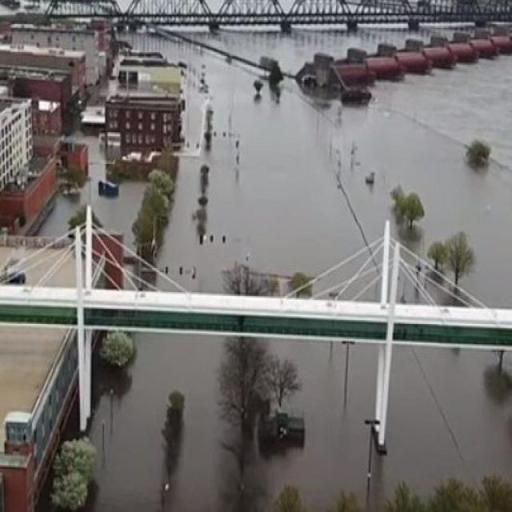flood: (121, 32, 512, 307), (90, 334, 376, 512), (384, 348, 512, 499), (374, 55, 512, 170), (185, 27, 455, 72), (38, 137, 147, 245)
house: (4, 319, 83, 512), (103, 68, 187, 168), (0, 80, 50, 239), (2, 151, 60, 235), (0, 43, 86, 75)
